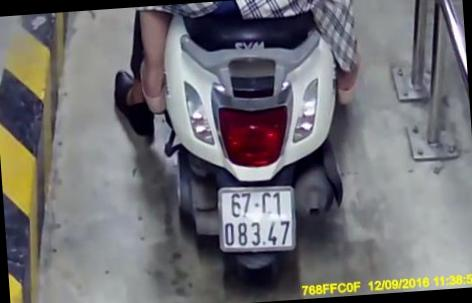LP: (214, 180, 298, 258)
